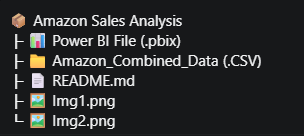

What the dashboard file says about the page in this screenshot:
{"tool":"powerbi","page":{"name":"Page 1","canvas":[1280,720],"ordinal":0},"visuals":[{"type":"card","fields":{"Values":["Amazon_Data.YTD SALES"]},"box":[257,85.7,216.7,85.7],"z":0,"group":"g1"},{"type":"shape","box":[80.6,11.8,1118.7,50.4],"z":0},{"type":"card","fields":{"Values":["Amazon_Data.QTD Sales"]},"box":[491.6,85.7,216.7,85.7],"z":1000,"group":"g1"},{"type":"textbox","box":[334.3,3.4,611.4,65.5],"z":1000},{"type":"card","fields":{"Values":["Amazon_Data.YTD Products Sold"]},"box":[726.2,85.7,216.7,85.7],"z":2000,"group":"g1"},{"type":"shape","box":[23.5,85.7,139.4,621.5],"z":2000},{"type":"card","fields":{"Values":["Amazon_Data.YTD Reviews"]},"box":[960.8,86.3,216.7,85.7],"z":3000,"group":"g1"},{"type":"group","id":"g1","title":"Group 1","box":[257,85.7,920.5,86.2],"z":3000},{"type":"shape","box":[178.1,199.9,539.2,250.3],"z":4000},{"type":"areaChart","title":"Sales By Month","fields":{"Category":["Table.Month Name"],"Y":["Sum(Amazon_Data.Price(Dollar))","Sum(Table.Month Number)"]},"box":[191.5,200.2,538.6,250.6],"z":5000},{"type":"shape","box":[730.7,199.9,539.2,250.3],"z":6000},{"type":"areaChart","title":"Sales by Week","fields":{"Category":["Table.Week"],"Y":["Sum(Amazon_Data.Price(Dollar))"]},"box":[741.6,200.2,517,250.6],"z":7000},{"type":"shape","box":[178.6,463.7,432,243.4],"z":8000},{"type":"pivotTable","title":"Sales by Product Category","fields":{"Rows":["Amazon_Data.Product Category"],"Values":["Amazon_Data.QTD Sales","Amazon_Data.YTD SALES1","Amazon_Data.YTD SALES"]},"box":[191.5,470.9,446.4,230.4],"z":9000},{"type":"shape","box":[907.2,463.7,351.4,237.6],"z":10000},{"type":"shape","box":[626.4,463.7,280.8,243.4],"z":11000},{"type":"clusteredBarChart","title":"Top 5 Products by YTD Sales","fields":{"Category":["Amazon_Data.Product Category"],"Y":["Amazon_Data.YTD SALES"]},"box":[636.5,482.4,260.6,205.9],"z":12000},{"type":"clusteredBarChart","title":"Top 5 Products by YTD Reviews","fields":{"Category":["Amazon_Data.Product Category"],"Y":["Amazon_Data.YTD Reviews"]},"box":[951.8,479.5,260.6,205.9],"z":13000},{"type":"slicer","fields":{"Values":["Amazon_Data.Product Category"]},"box":[25.9,313.9,139.7,113.8],"z":13001},{"type":"slicer","fields":{"Values":["Table.Qtr"]},"box":[25.9,571.7,139.7,113.8],"z":13002},{"type":"image","box":[0,59,191.5,187.2],"z":13003},{"type":"textbox","box":[57.6,277.9,70.6,47.5],"z":13004},{"type":"slicer","fields":{"Values":["Table.Qtr"]},"box":[25.9,440.6,139.7,113.8],"z":13005}]}

Visuals, with their boxes on the page's 1280x720 design canvas (x1, y1, x2, y2). These are canvas units, not pixel positions in the 304x136 screenshot, which may show the page scaled, cropped or inside an application window:
card - Amazon_Data.YTD SALES: {"x1": 257, "y1": 86, "x2": 474, "y2": 171}
shape: {"x1": 81, "y1": 12, "x2": 1199, "y2": 62}
card - Amazon_Data.QTD Sales: {"x1": 492, "y1": 86, "x2": 708, "y2": 171}
textbox: {"x1": 334, "y1": 3, "x2": 946, "y2": 69}
card - Amazon_Data.YTD Products Sold: {"x1": 726, "y1": 86, "x2": 943, "y2": 171}
shape: {"x1": 24, "y1": 86, "x2": 163, "y2": 707}
card - Amazon_Data.YTD Reviews: {"x1": 961, "y1": 86, "x2": 1178, "y2": 172}
"Group 1" group: {"x1": 257, "y1": 86, "x2": 1178, "y2": 172}
shape: {"x1": 178, "y1": 200, "x2": 717, "y2": 450}
"Sales By Month" areaChart: {"x1": 192, "y1": 200, "x2": 730, "y2": 451}
shape: {"x1": 731, "y1": 200, "x2": 1270, "y2": 450}
"Sales by Week" areaChart: {"x1": 742, "y1": 200, "x2": 1259, "y2": 451}
shape: {"x1": 179, "y1": 464, "x2": 611, "y2": 707}
"Sales by Product Category" pivotTable: {"x1": 192, "y1": 471, "x2": 638, "y2": 701}
shape: {"x1": 907, "y1": 464, "x2": 1259, "y2": 701}
shape: {"x1": 626, "y1": 464, "x2": 907, "y2": 707}
"Top 5 Products by YTD Sales" clusteredBarChart: {"x1": 636, "y1": 482, "x2": 897, "y2": 688}
"Top 5 Products by YTD Reviews" clusteredBarChart: {"x1": 952, "y1": 480, "x2": 1212, "y2": 685}
slicer - Amazon_Data.Product Category: {"x1": 26, "y1": 314, "x2": 166, "y2": 428}
slicer - Table.Qtr: {"x1": 26, "y1": 572, "x2": 166, "y2": 686}
image: {"x1": 0, "y1": 59, "x2": 192, "y2": 246}
textbox: {"x1": 58, "y1": 278, "x2": 128, "y2": 325}
slicer - Table.Qtr: {"x1": 26, "y1": 441, "x2": 166, "y2": 554}
